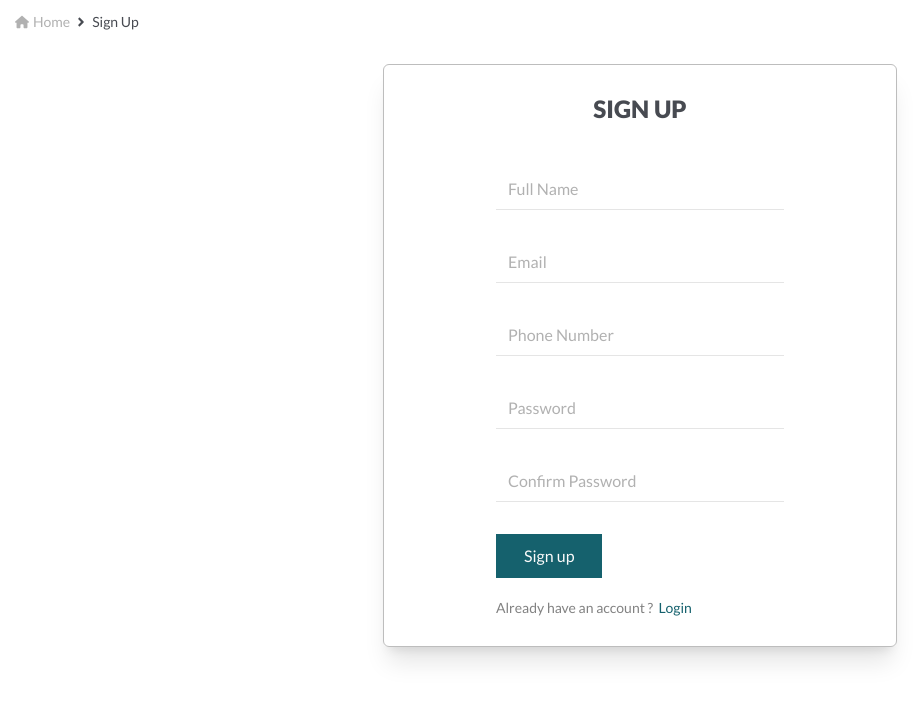
Test: Register Component › shows error message for invalid name
Type "123" into the field labelled "full name" at (640, 190), box x1=496 y1=169 x2=784 y2=210
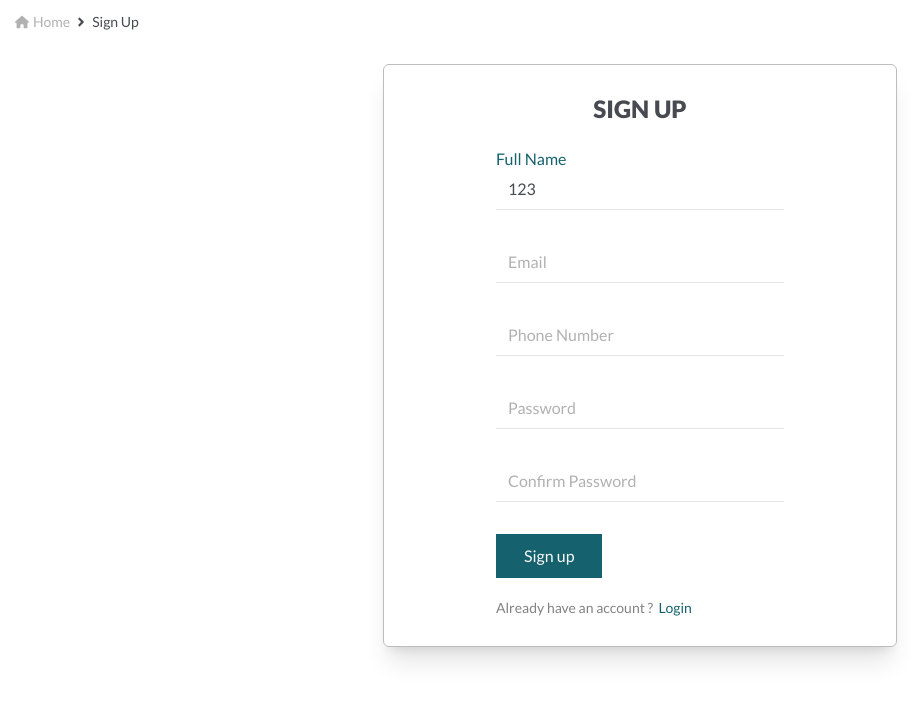
Type "swjjsjsswjsw" into the field labelled "email" at (640, 262), box x1=496 y1=242 x2=784 y2=283
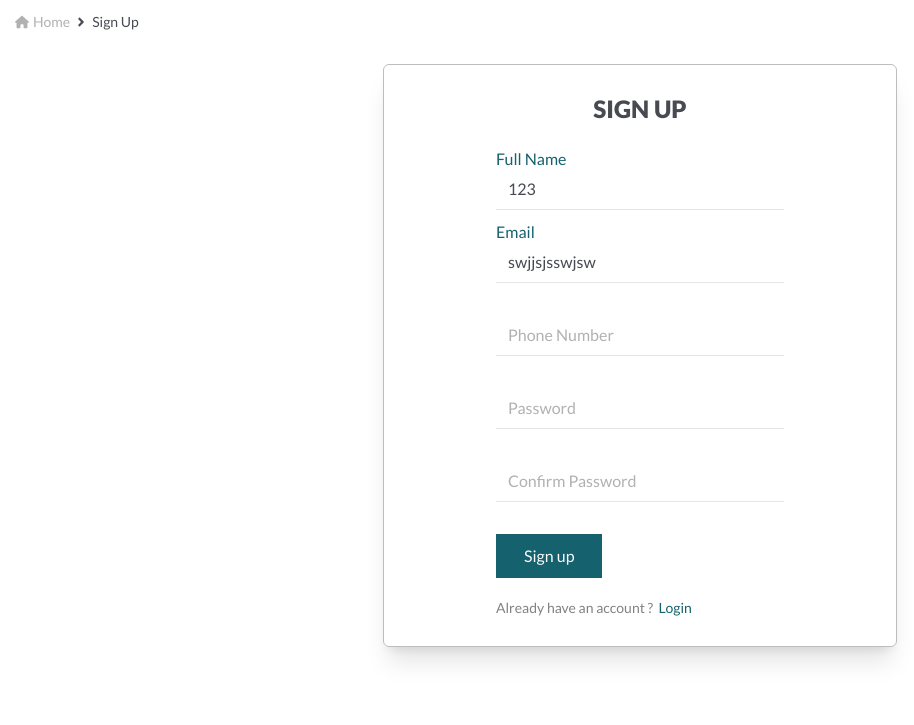
Type "123655224" into the field labelled "Phone Number" at (640, 336), box x1=496 y1=315 x2=784 y2=356
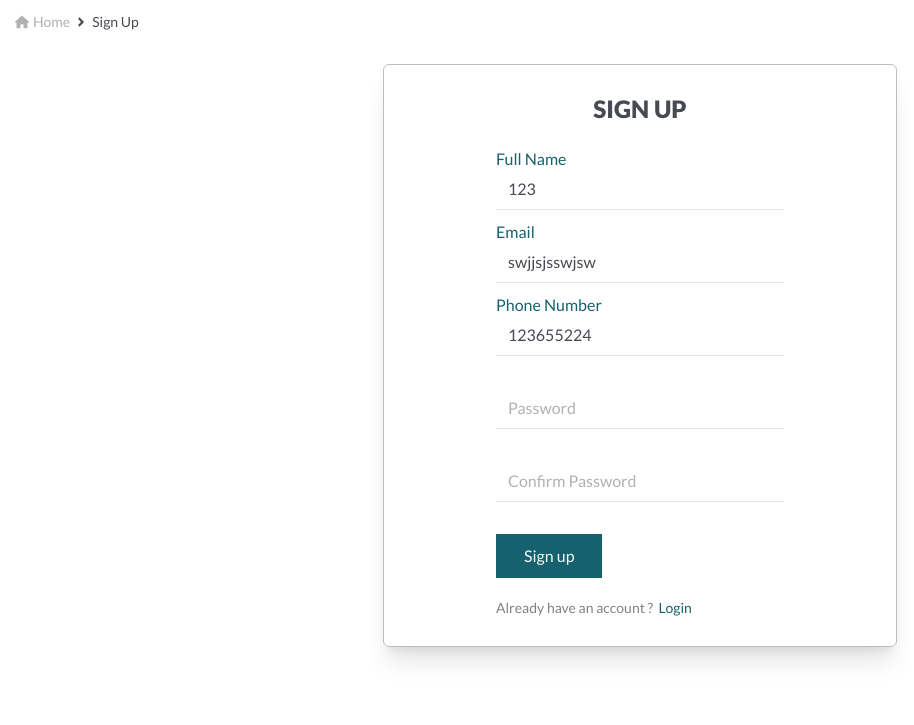
Type "wkwlslsjs" into the password field labelled "password" at (640, 408), box x1=496 y1=388 x2=784 y2=429
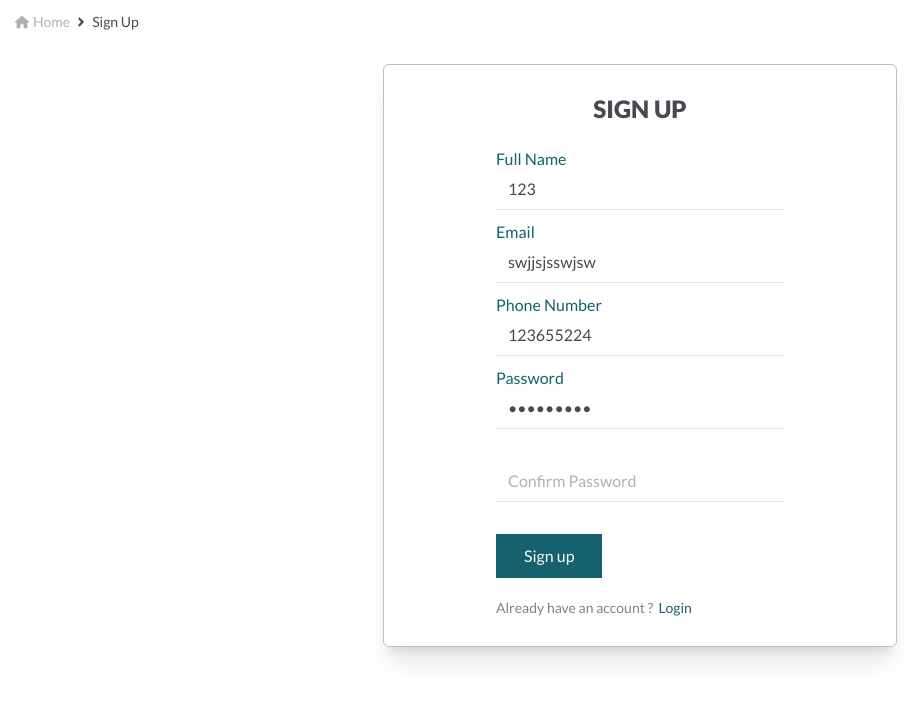
Click the button at (549, 556), box x1=496 y1=534 x2=602 y2=578
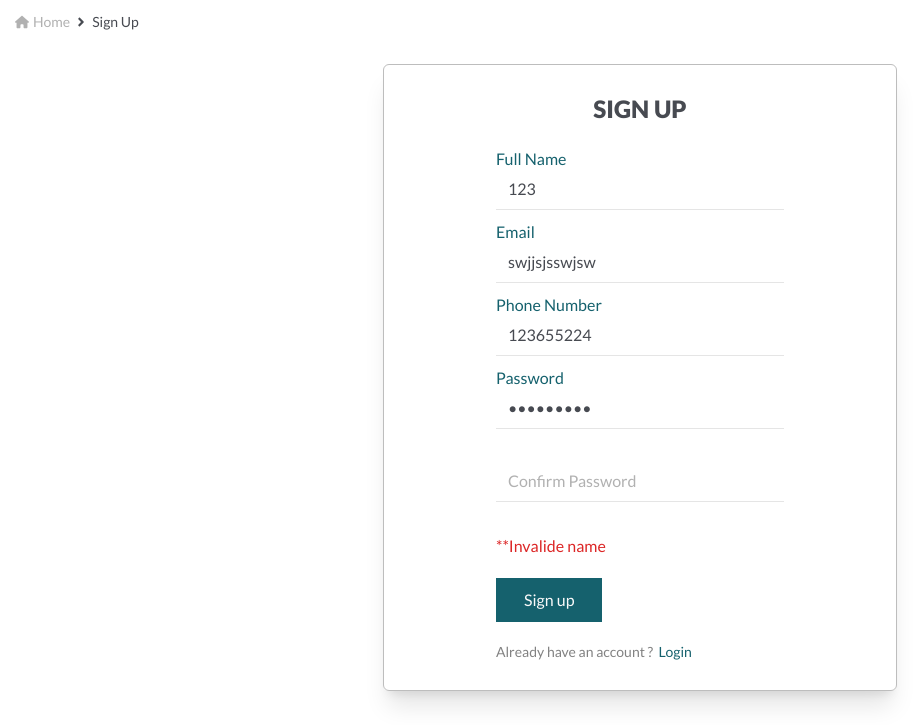
Result: the text "**Invalide name" is shown at x1=496 y1=534 x2=606 y2=558
